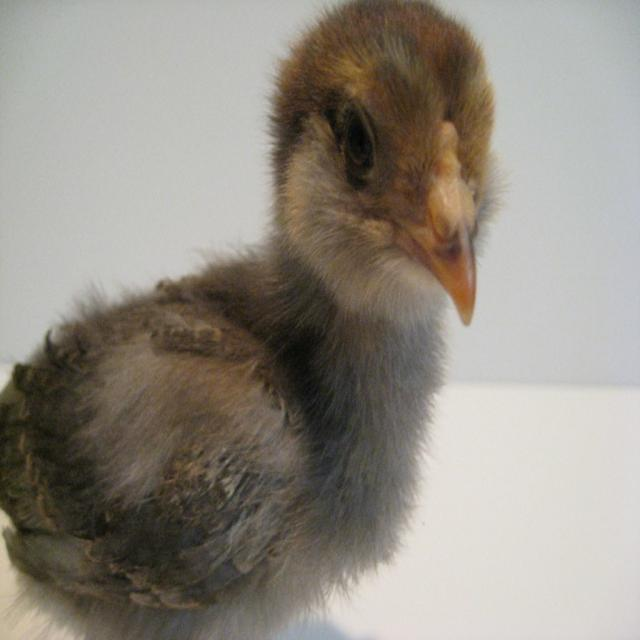Chicken: (0, 0, 504, 639)
